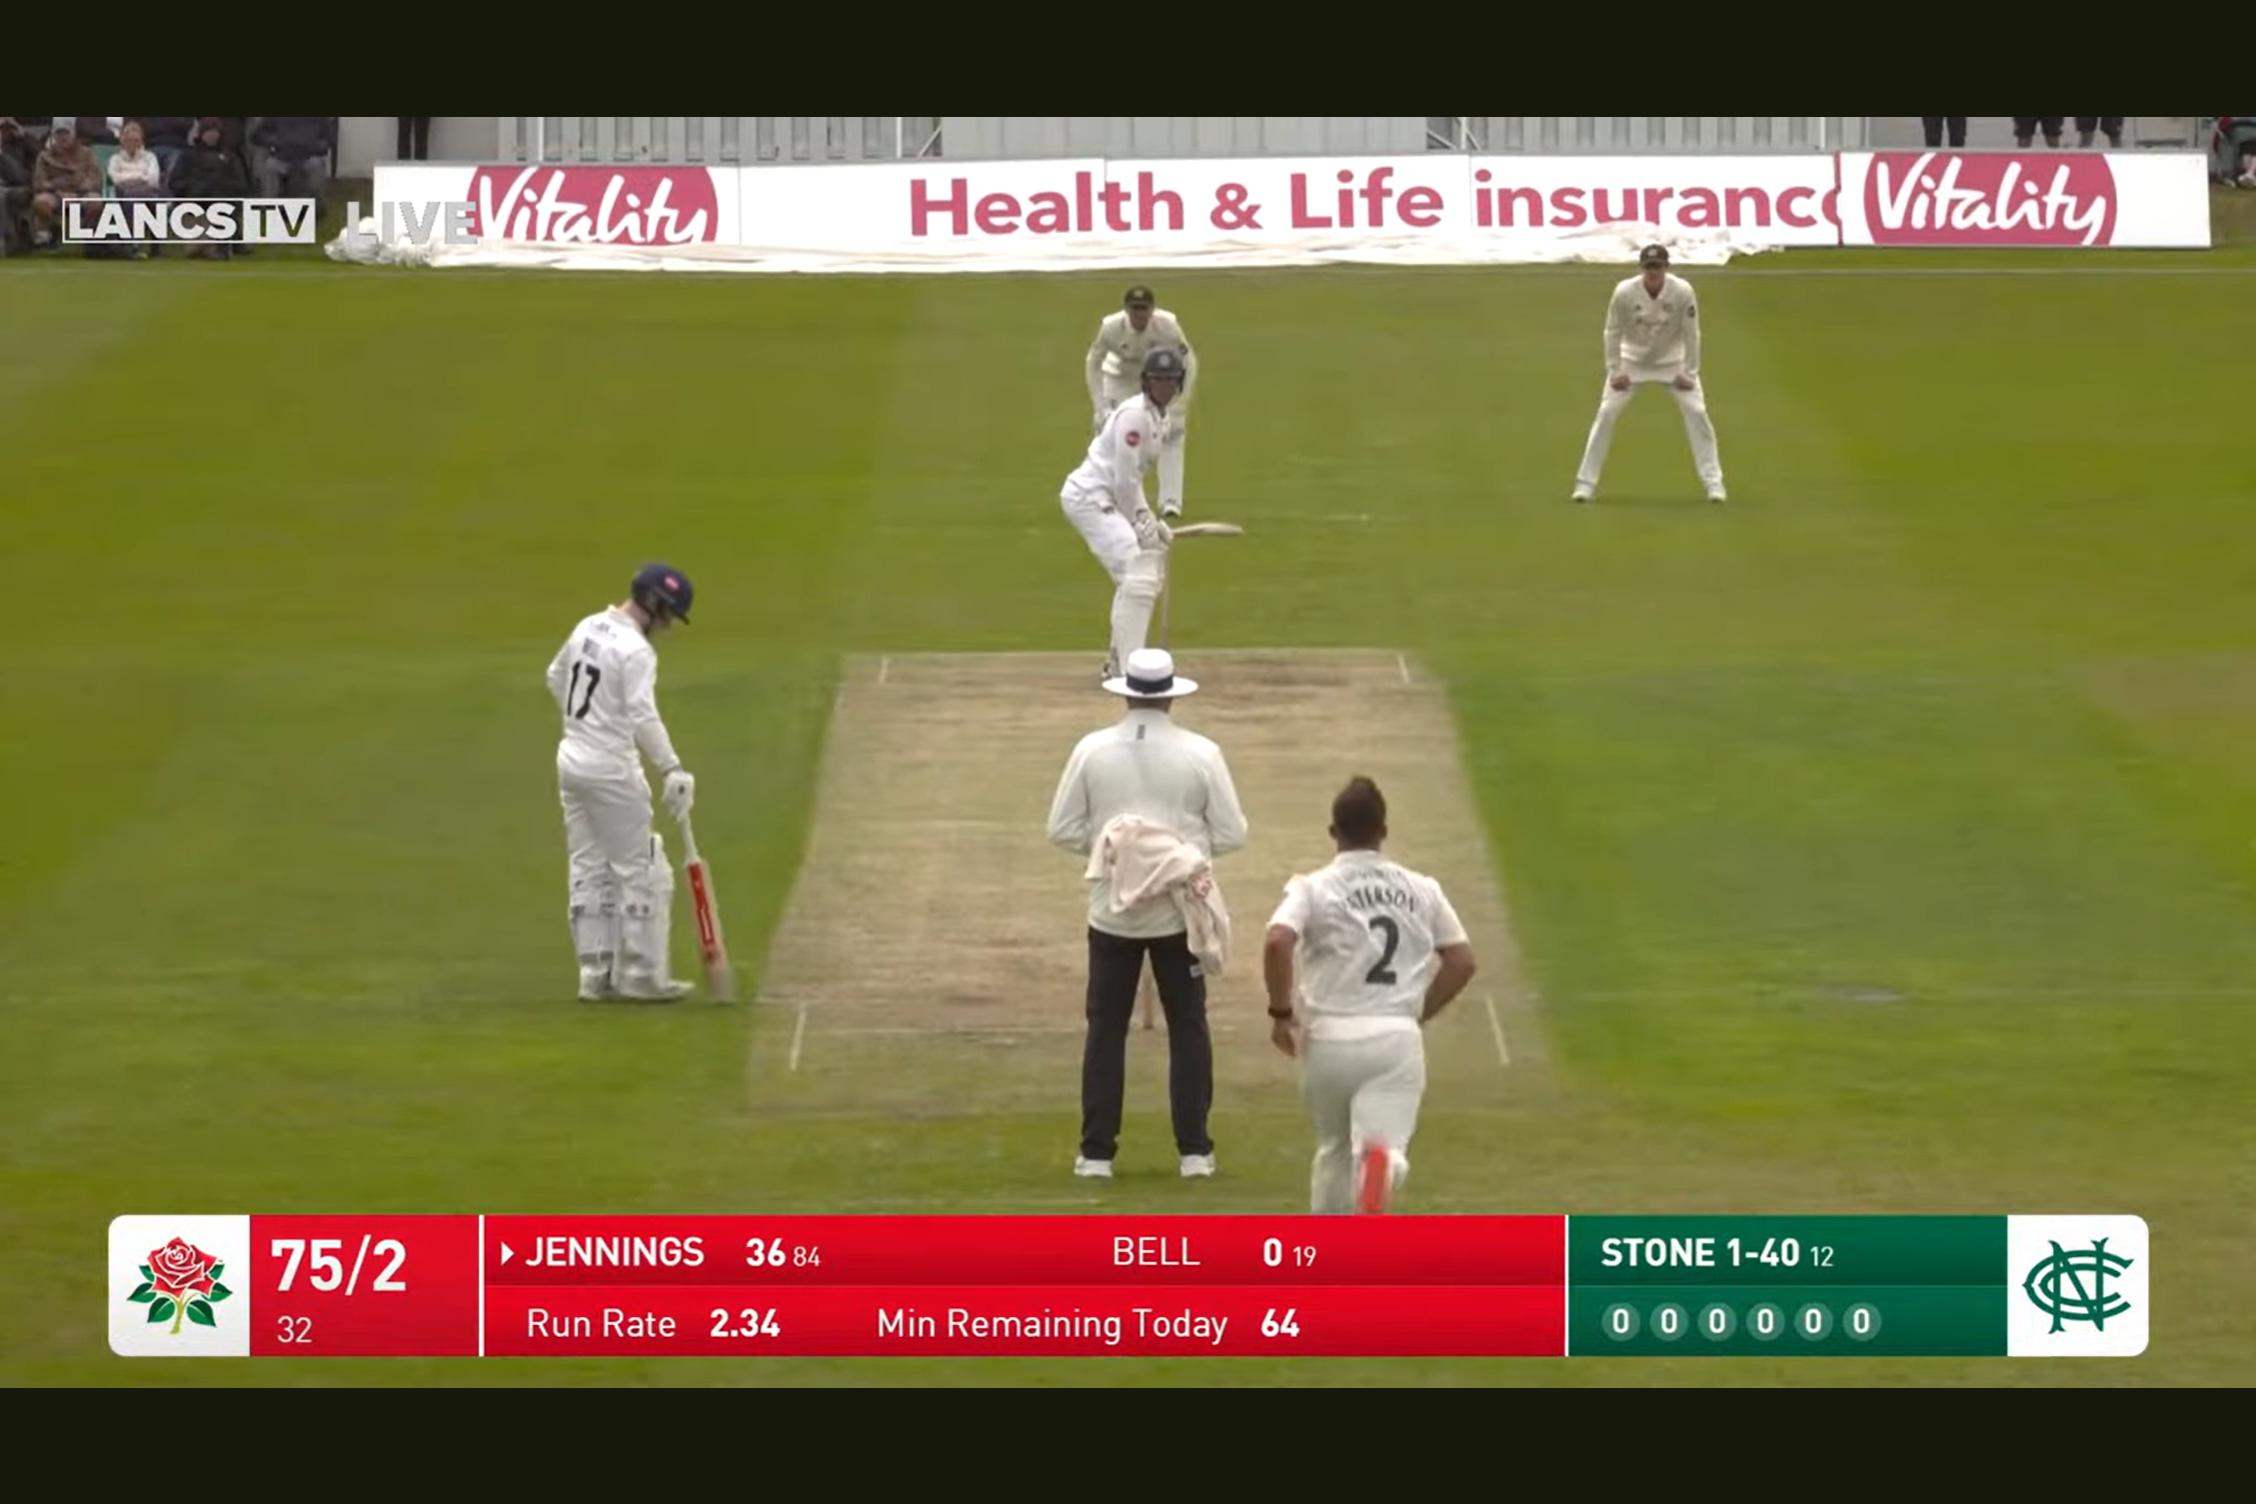batsman: (1063, 346, 1235, 653)
bowler running in: (1266, 744, 1486, 1200)
non striker: (488, 534, 750, 1031)
umpire: (1051, 668, 1247, 1187)
